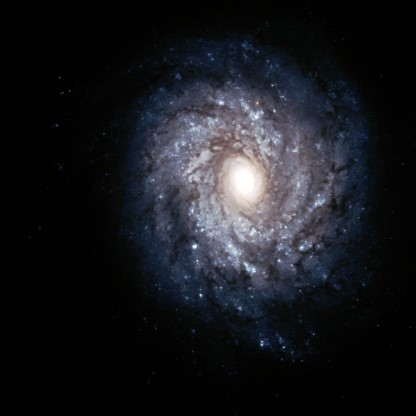NGC 3982: (111, 33, 388, 327)
